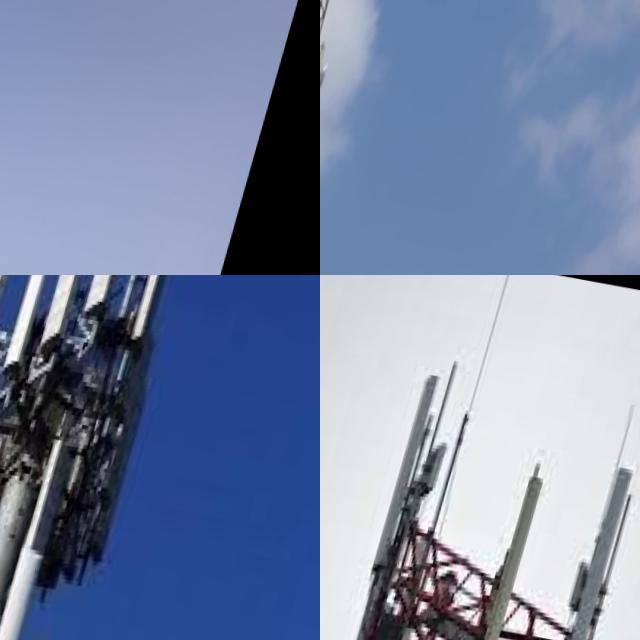GSM Antenna: (374, 369, 445, 574), (568, 467, 640, 640), (481, 474, 553, 640), (2, 275, 70, 374), (0, 539, 59, 640), (36, 275, 109, 355), (126, 275, 197, 353), (0, 275, 33, 405), (85, 275, 154, 314), (320, 154, 334, 253), (320, 42, 338, 96)
Microwave Antenna: (320, 64, 339, 99)
